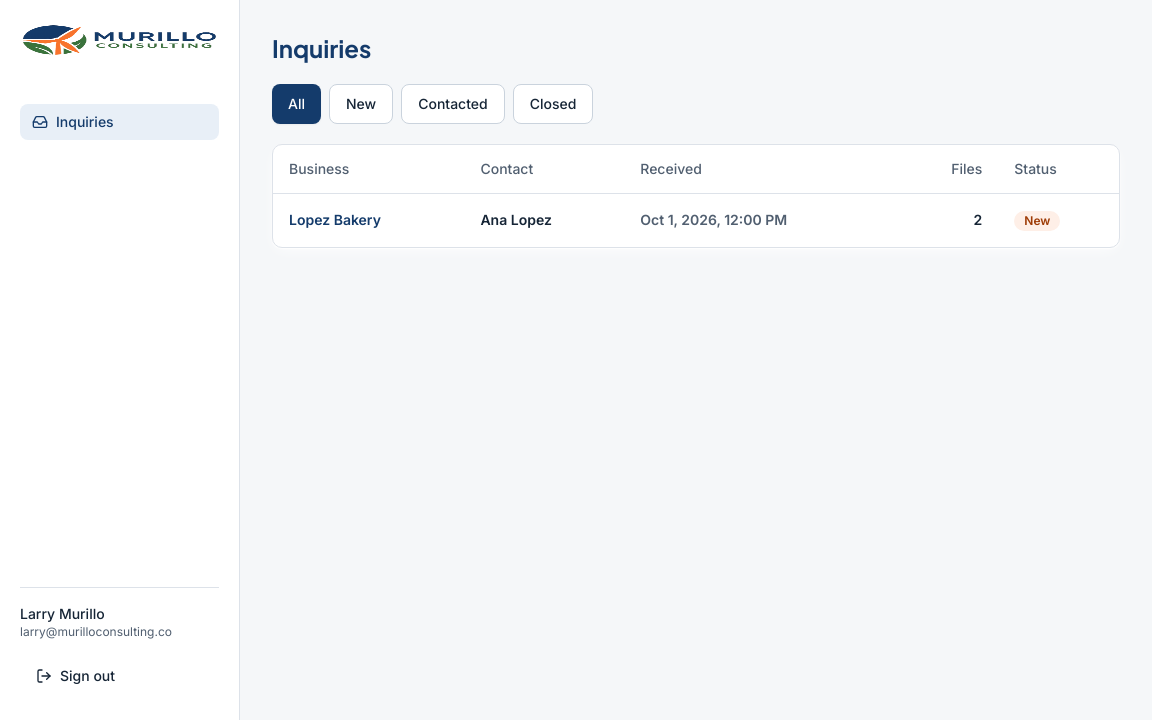
Test case: inquiry list › lists inquiries and filters by status
Expected: the text "Larry Murillo" is shown, [20, 605, 105, 622]
Click the button "Closed": (553, 104) [513, 84, 593, 124]
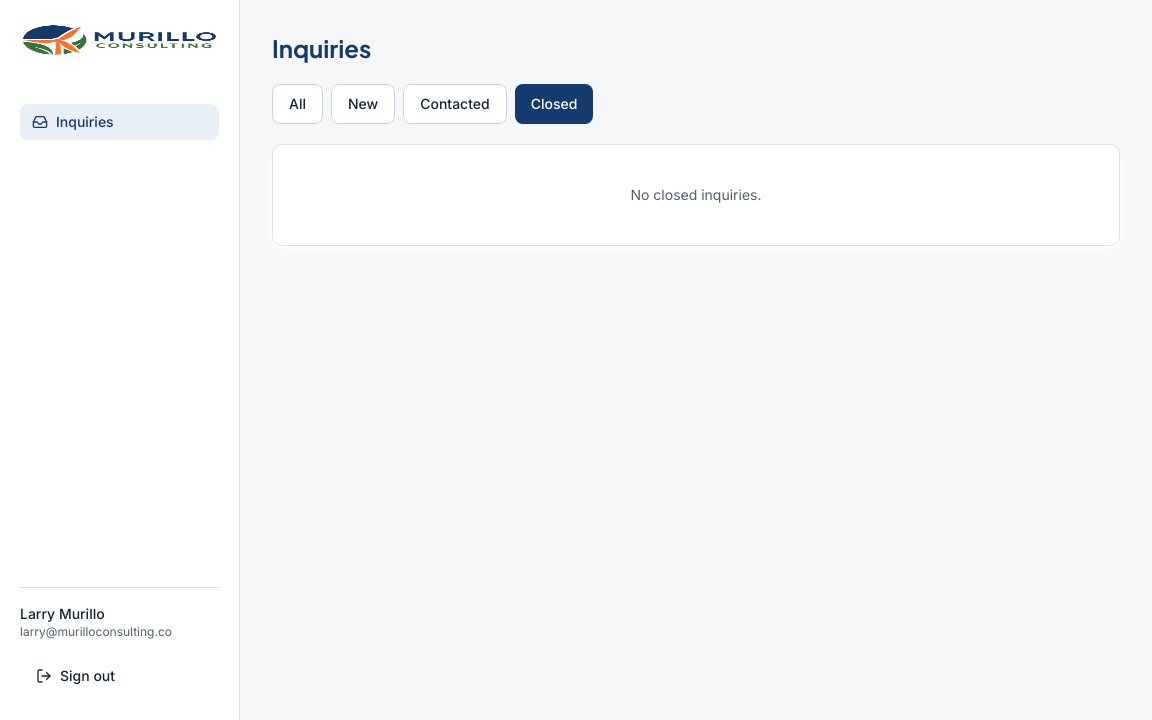
Result: the text "No closed inquiries." is shown at [630, 186, 762, 203]
